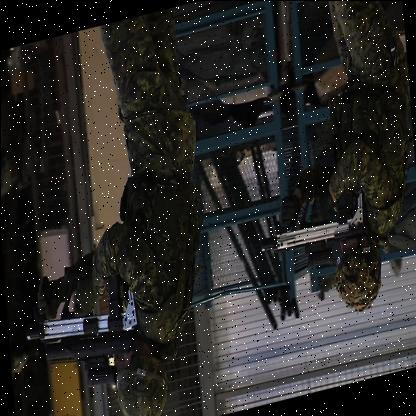rifle: (23, 268, 137, 384), (256, 189, 366, 263)
